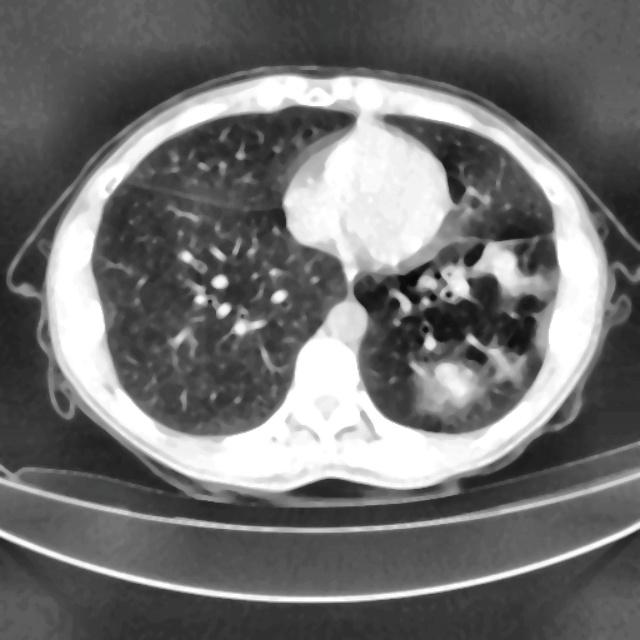covid: (12, 66, 629, 506)
